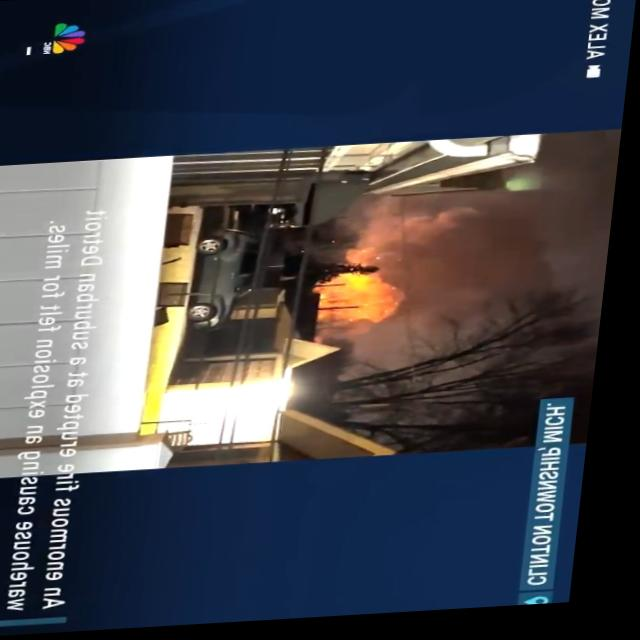Fire: (312, 259, 423, 339)
